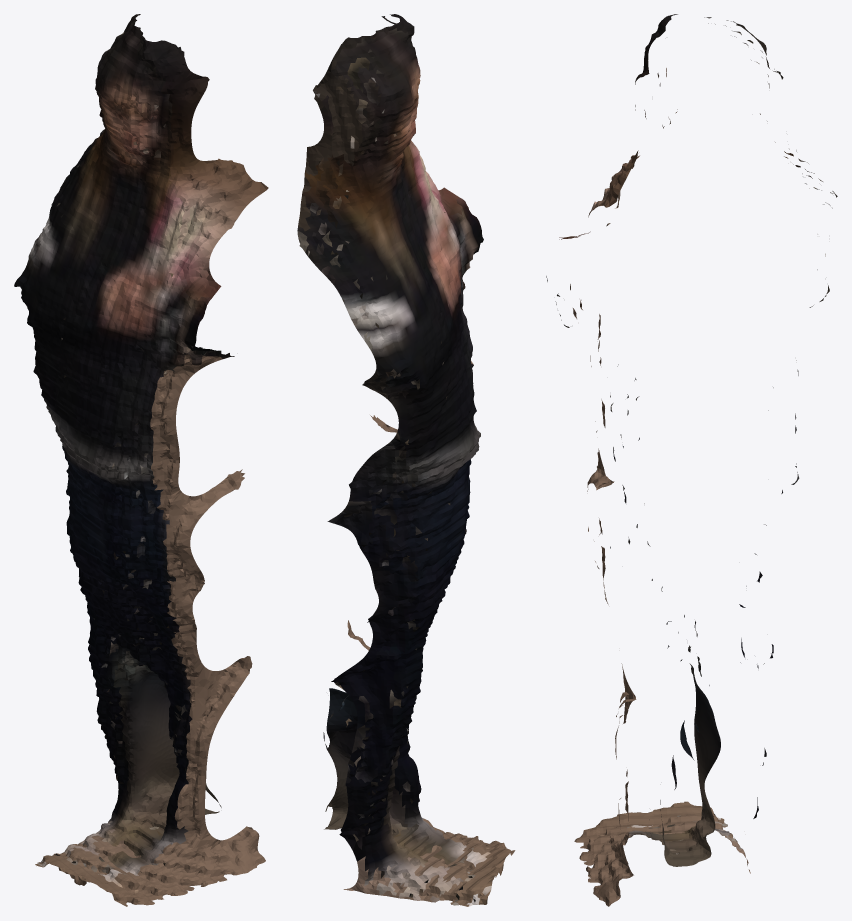
The picture shows the model from 3 angles, left to right: view 1: azimuth 30°, elevation 25°; view 2: azimuth 150°, elevation 25°; view 3: azimuth 270°, elevation 25°; orthographic projection. The views are drawn at different scales.
Size of the model in its own units: 0.36 by 1.5 by 0.4708.
Materials: 1 (1 with a texture image).
